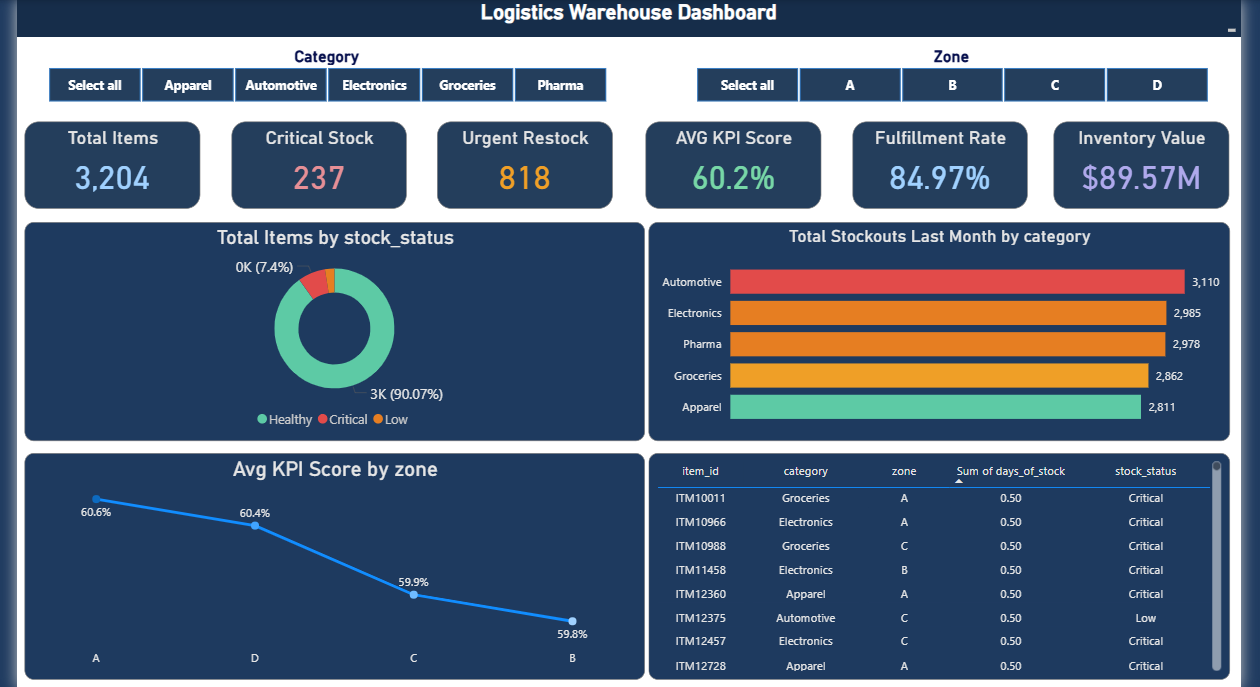

This screenshot's page, from the dashboard's own definition file:
{"tool":"powerbi","page":{"name":"Overview","canvas":[1280,720],"ordinal":0},"visuals":[{"type":"card","title":"Total Items","fields":{"Values":["logistics_powerbi.Total Items"]},"box":[8.2,127,184.1,91.6],"z":0},{"type":"card","title":"Critical Stock","fields":{"Values":["logistics_powerbi.Critical Items"]},"box":[224,127,183.2,91.6],"z":1000},{"type":"card","title":"Urgent Restock","fields":{"Values":["logistics_powerbi.Urgent Restock Items"]},"box":[438.9,127,184.1,91.6],"z":2000},{"type":"card","title":"AVG KPI Score","fields":{"Values":["logistics_powerbi.Avg KPI Score"]},"box":[657.4,127,184.1,91.6],"z":3000},{"type":"card","title":"Fulfillment Rate","fields":{"Values":["logistics_powerbi.Avg Fulfillment Rate"]},"box":[874.2,127,183.2,91.6],"z":4000},{"type":"card","title":"Inventory Value","fields":{"Values":["logistics_powerbi.Total Inventory Value"]},"box":[1085.4,127,184.1,91.6],"z":5000},{"type":"textbox","title":"Logistics Warehouse Dashboard","box":[0,0,1280.4,38.1],"z":6000},{"type":"clusteredBarChart","fields":{"Category":["logistics_powerbi.category"],"Y":["logistics_powerbi.Total Stockouts Last Month"]},"box":[661.1,233,608.5,229.4],"z":7000},{"type":"donutChart","fields":{"Category":["logistics_powerbi.stock_status"],"Y":["logistics_powerbi.Total Items"]},"box":[8.2,233,649.3,229.4],"z":8000},{"type":"lineChart","fields":{"Category":["logistics_powerbi.zone"],"Y":["logistics_powerbi.Avg KPI Score"]},"box":[8.2,474.3,649.3,237.6],"z":9000},{"type":"tableEx","fields":{"Values":["logistics_powerbi.item_id","logistics_powerbi.category","logistics_powerbi.zone","Sum(logistics_powerbi.days_of_stock)","logistics_powerbi.stock_status"]},"box":[661.1,474.3,608.5,237.6],"z":10000},{"type":"slicer","title":"Category","fields":{"Values":["logistics_powerbi.category"]},"box":[7.8,48.7,632.6,64.4],"z":11000},{"type":"slicer","title":"Zone","fields":{"Values":["logistics_powerbi.zone"]},"box":[686,48.7,584,64.4],"z":12000}]}

Visuals, with their boxes on the page's 1280x720 design canvas (x1, y1, x2, y2). These are canvas units, not pixel positions in the 1260x687 screenshot, which may show the page scaled, cropped or inside an application window:
"Total Items" card: select_region(8, 127, 192, 219)
"Critical Stock" card: select_region(224, 127, 407, 219)
"Urgent Restock" card: select_region(439, 127, 623, 219)
"AVG KPI Score" card: select_region(657, 127, 842, 219)
"Fulfillment Rate" card: select_region(874, 127, 1057, 219)
"Inventory Value" card: select_region(1085, 127, 1270, 219)
"Logistics Warehouse Dashboard" textbox: select_region(0, 0, 1280, 38)
clusteredBarChart - logistics_powerbi.category x logistics_powerbi.Total Stockouts Last Month: select_region(661, 233, 1270, 462)
donutChart - logistics_powerbi.stock_status x logistics_powerbi.Total Items: select_region(8, 233, 658, 462)
lineChart - logistics_powerbi.zone x logistics_powerbi.Avg KPI Score: select_region(8, 474, 658, 712)
tableEx - logistics_powerbi.item_id x logistics_powerbi.category: select_region(661, 474, 1270, 712)
"Category" slicer: select_region(8, 49, 640, 113)
"Zone" slicer: select_region(686, 49, 1270, 113)
